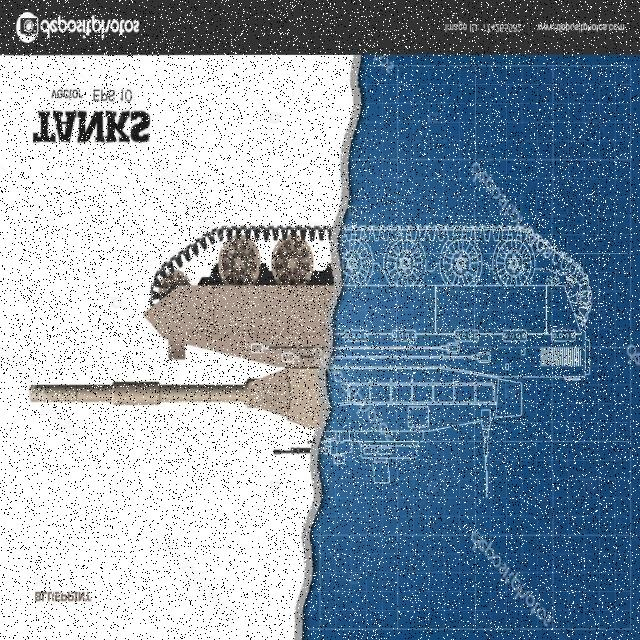MIL_MBT: (21, 189, 607, 471)
